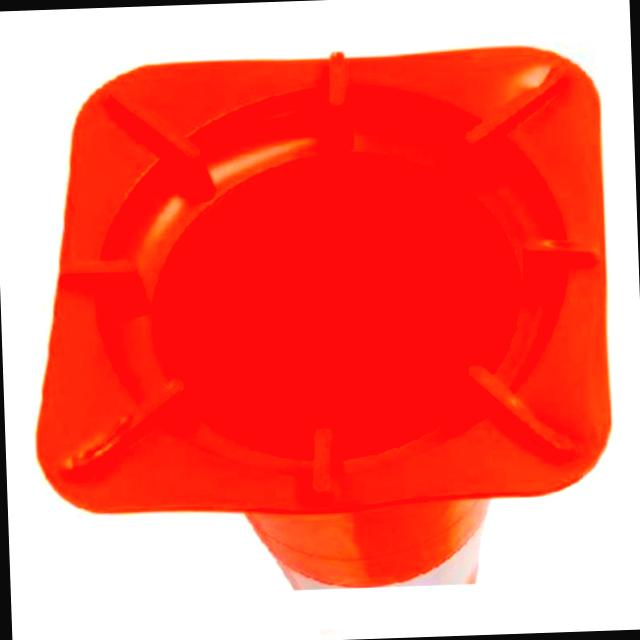cone: (12, 18, 620, 614)
